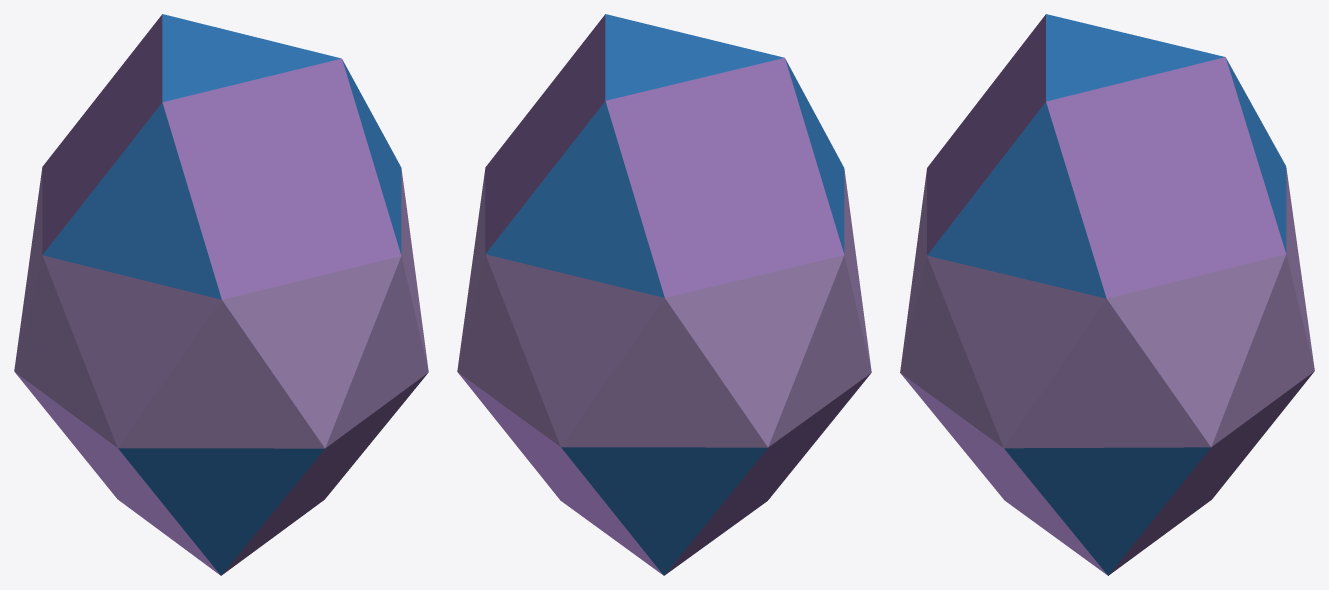
File: J44.BicupulaTriangularGiroelongada.gltf
The picture shows the model from 3 angles, left to right: view 1: azimuth 30°, elevation 25°; view 2: azimuth 150°, elevation 25°; view 3: azimuth 270°, elevation 25°; orthographic projection.
Visible parts, largest first — view 1: J44.BicupulaTriangularGiroelongada; view 2: J44.BicupulaTriangularGiroelongada; view 3: J44.BicupulaTriangularGiroelongada.
Boxes of the visible parts, bbox=[...] form: J44.BicupulaTriangularGiroelongada: bbox=[14, 14, 428, 575]; J44.BicupulaTriangularGiroelongada: bbox=[457, 14, 871, 575]; J44.BicupulaTriangularGiroelongada: bbox=[900, 14, 1314, 575].
Bounding box in the file's own units: 14.58 × 18.18 × 14.58.
